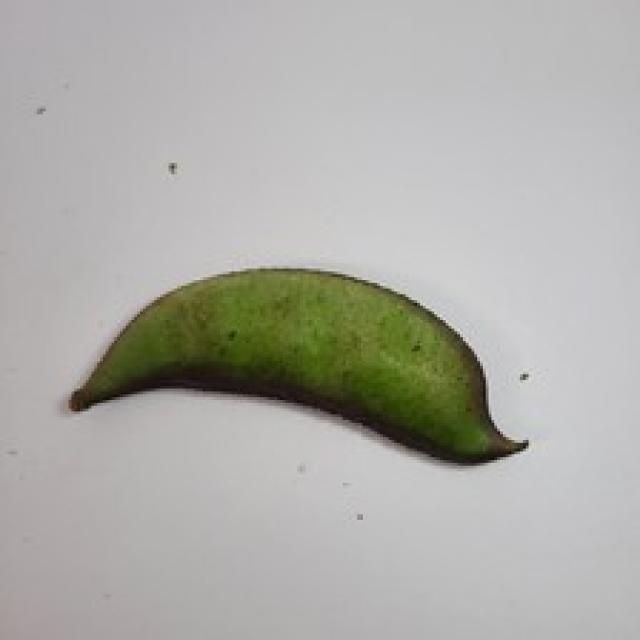Bean: (66, 263, 528, 466)
